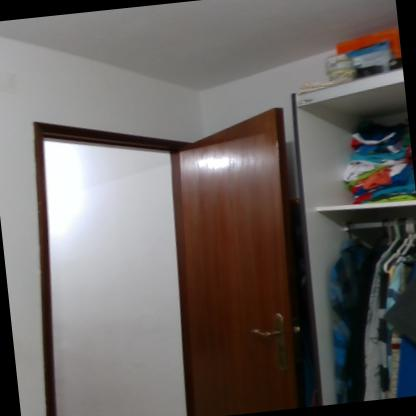open: (14, 92, 330, 415)
